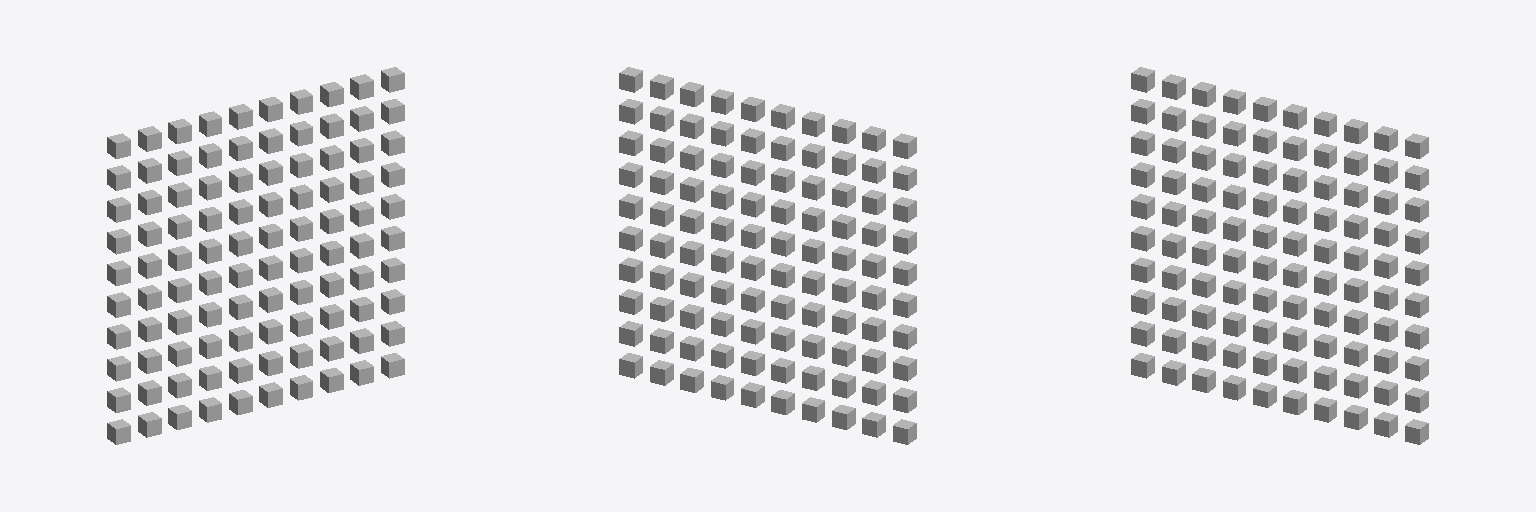
The model's file is hundred_cubes.obj.
The picture shows the model from 3 angles: view 1: azimuth 30°, elevation 25°; view 2: azimuth 150°, elevation 25°; view 3: azimuth 330°, elevation 25°; orthographic projection.
Bounding box in the file's own units: 19 × 19 × 1.